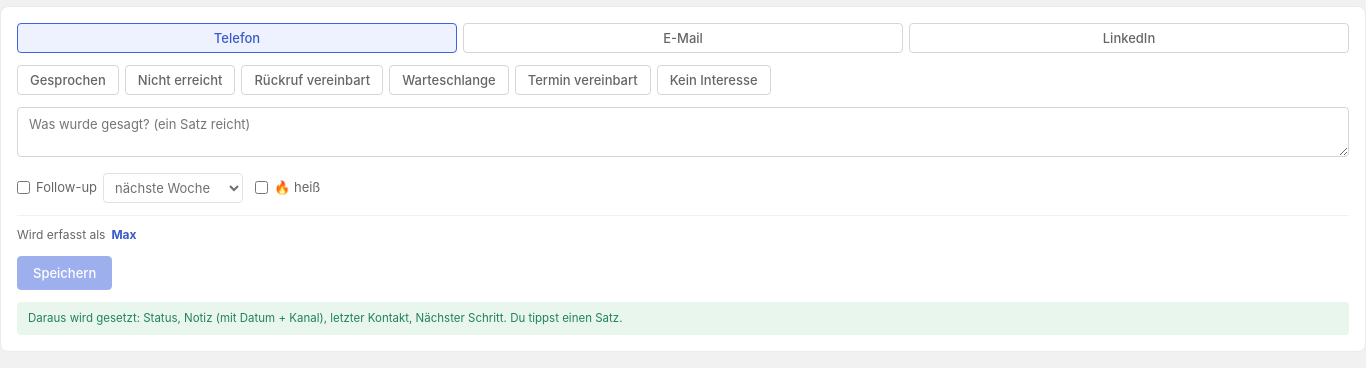
Scenario: LogForm › LinkedIn shows 'Antwort erhalten' and never 'Geantwortet' (LOG-02/D-03)
Click the button "LinkedIn": click(1129, 38) [909,23,1349,53]
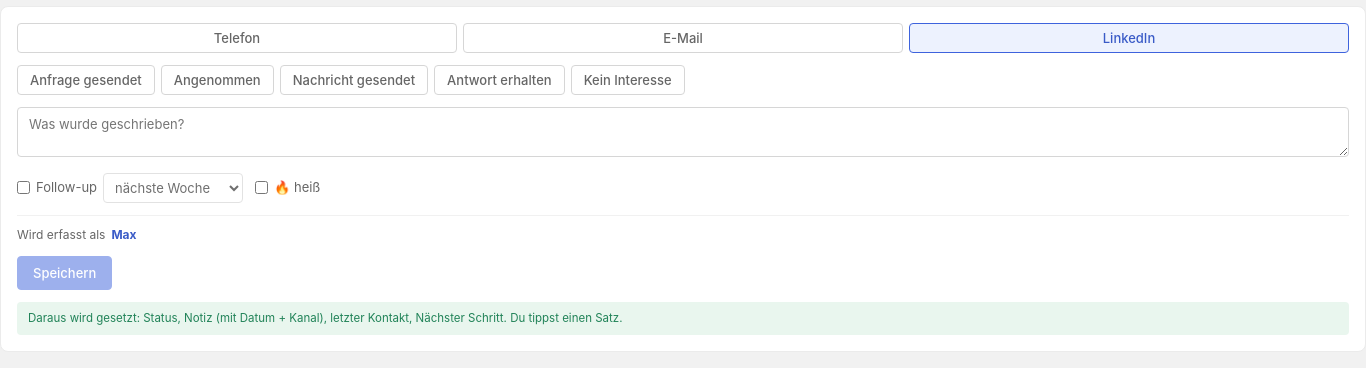
expect the button "Antwort erhalten" is shown: met, box [434,65,565,95]
